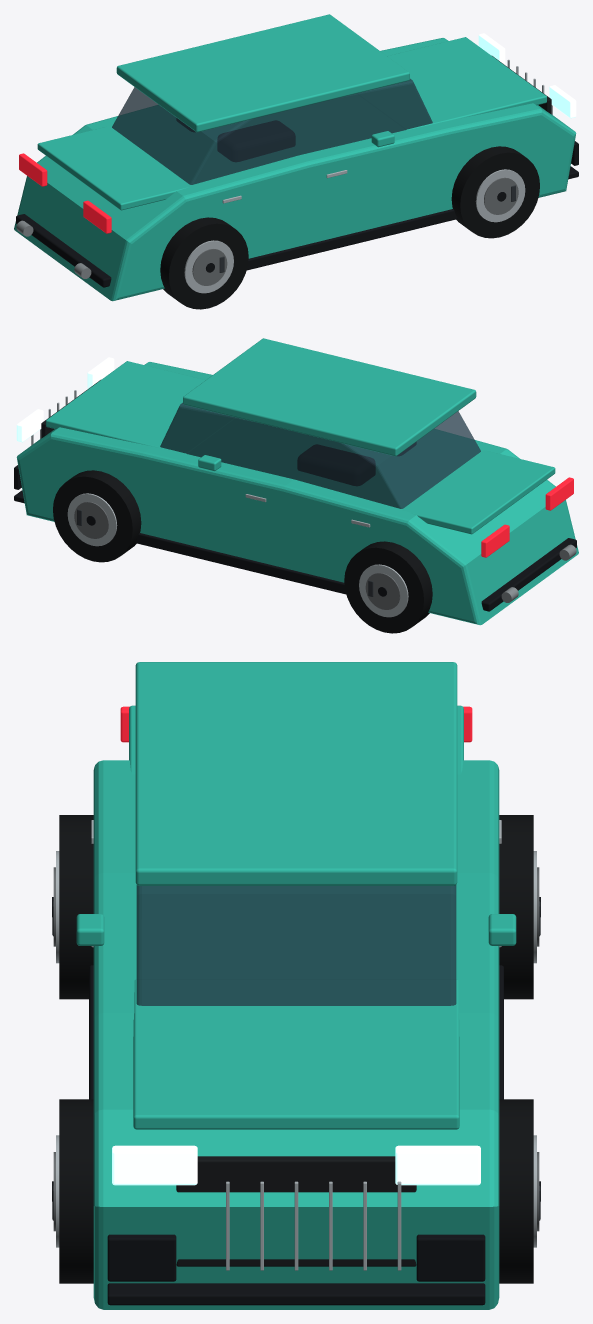
The model's file is ford_excursion.glb.
3 renders of one model, top to bottom at view 1: azimuth 30°, elevation 25°; view 2: azimuth 150°, elevation 25°; view 3: azimuth 270°, elevation 25°, orthographic. The views are drawn at different scales.
Parts seen in each view (by area): view 1: sculpted_body, roof, glasshouse, hood_center, rear_deck, rear_right_wheel_tire, front_right_wheel_tire, side_skirt_1, seat_1, rear_diffuser, rear_right_wheel_rim, front_right_wheel_rim (+6 smaller); view 2: sculpted_body, roof, glasshouse, hood_center, rear_deck, rear_left_wheel_tire, front_left_wheel_tire, side_skirt_-1, seat_-1, rear_diffuser, rear_left_wheel_rim, front_left_wheel_rim (+6 smaller); view 3: sculpted_body, roof, hood_center, glasshouse, front_grille, front_splitter, front_left_wheel_tire, front_right_wheel_tire, rear_left_wheel_tire, rear_right_wheel_tire, headlight_right, headlight_left (+5 smaller).
Part boxes in pixels (x1=…): sculpted_body: x1=14, y1=38, x2=576, y2=301; roof: x1=116, y1=14, x2=409, y2=132; glasshouse: x1=112, y1=78, x2=432, y2=184; hood_center: x1=358, y1=37, x2=546, y2=129; rear_deck: x1=37, y1=126, x2=190, y2=210; rear_right_wheel_tire: x1=160, y1=217, x2=248, y2=309; front_right_wheel_tire: x1=451, y1=146, x2=539, y2=238; side_skirt_1: x1=246, y1=209, x2=457, y2=270; seat_1: x1=218, y1=121, x2=294, y2=161; rear_diffuser: x1=16, y1=214, x2=111, y2=287; rear_right_wheel_rim: x1=184, y1=240, x2=233, y2=293; front_right_wheel_rim: x1=475, y1=169, x2=525, y2=222; sculpted_body: x1=16, y1=362, x2=578, y2=625; roof: x1=183, y1=338, x2=476, y2=456; glasshouse: x1=160, y1=402, x2=480, y2=508; hood_center: x1=46, y1=361, x2=234, y2=453; rear_deck: x1=402, y1=450, x2=555, y2=534; rear_left_wheel_tire: x1=344, y1=541, x2=432, y2=633; front_left_wheel_tire: x1=53, y1=470, x2=141, y2=562; side_skirt_-1: x1=135, y1=533, x2=346, y2=594; seat_-1: x1=298, y1=445, x2=374, y2=485; rear_diffuser: x1=481, y1=538, x2=576, y2=611; rear_left_wheel_rim: x1=359, y1=564, x2=408, y2=617; front_left_wheel_rim: x1=67, y1=493, x2=117, y2=546; sculpted_body: x1=93, y1=760, x2=499, y2=1309; roof: x1=135, y1=662, x2=457, y2=885; hood_center: x1=133, y1=979, x2=459, y2=1129; glasshouse: x1=136, y1=885, x2=456, y2=1005; front_grille: x1=176, y1=1156, x2=416, y2=1266; front_splitter: x1=107, y1=1283, x2=485, y2=1305; front_left_wheel_tire: x1=499, y1=1099, x2=533, y2=1283; front_right_wheel_tire: x1=59, y1=1099, x2=93, y2=1283; rear_left_wheel_tire: x1=499, y1=815, x2=533, y2=999; rear_right_wheel_tire: x1=59, y1=815, x2=93, y2=999; headlight_right: x1=112, y1=1145, x2=197, y2=1185; headlight_left: x1=395, y1=1145, x2=480, y2=1185.
Bounding box in the file's own units: 5.24 × 1.73 × 2.28.
